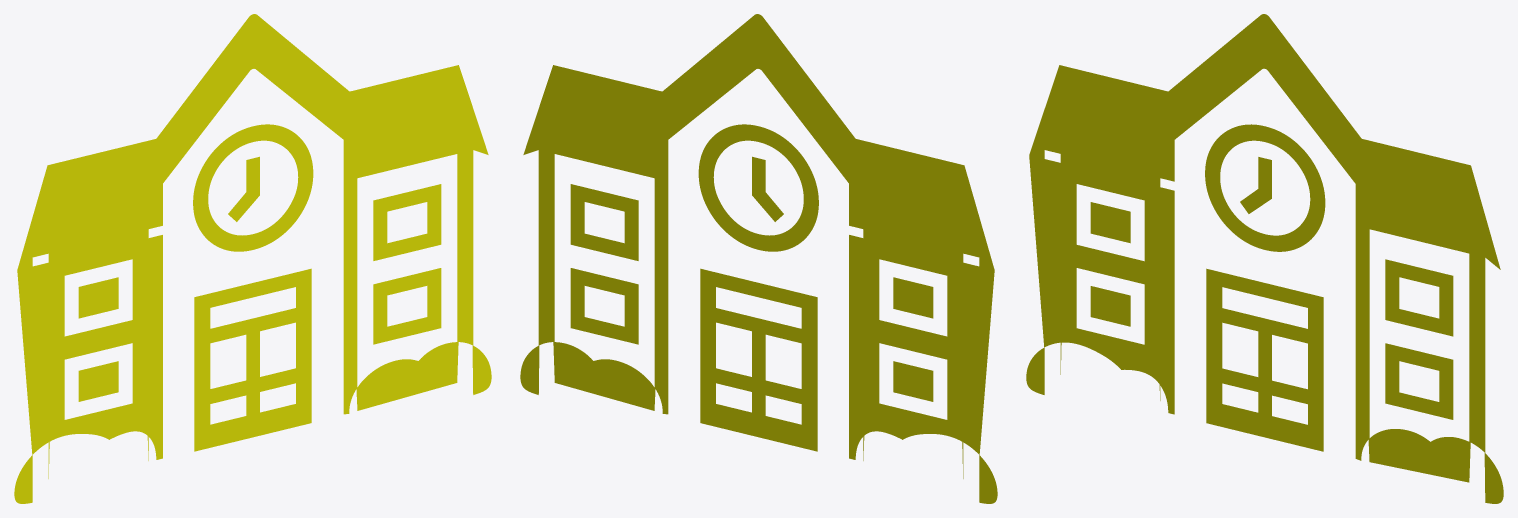
The model's file is school_building.glb.
3 views of the same model, side by side, from view 1: azimuth 30°, elevation 25°; view 2: azimuth 150°, elevation 25°; view 3: azimuth 330°, elevation 25° (orthographic).
Parts seen in each view (by area): view 1: Text.544_544; view 2: Text.544_544; view 3: Text.544_544.
Part boxes in pixels (x1,y1,x2,y2): Text.544_544: (14,14,491,503); Text.544_544: (520,14,997,503); Text.544_544: (1026,14,1503,503).
Size of the model in its own units: 1.17 by 1.02 by 3.6e-06.
